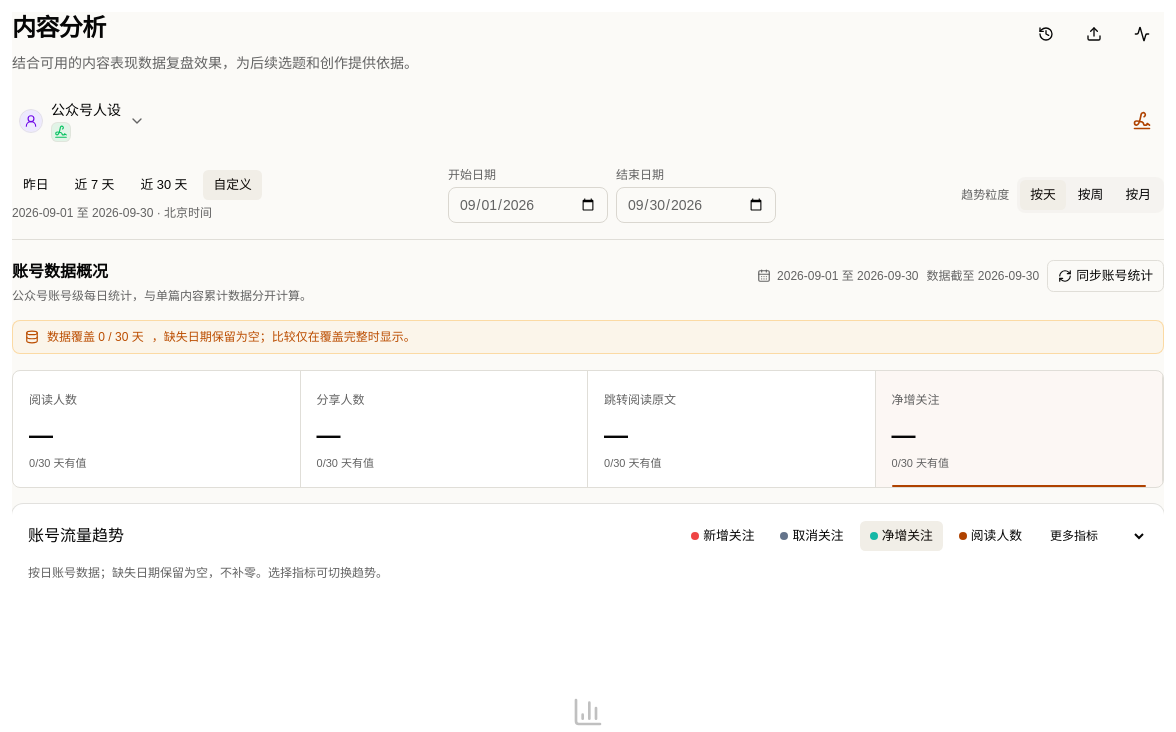
it: server analytics queries › enables official account sync only for an authorized project and refreshes analytics after sync
The image size is (1176, 732).
Click the button "同步账号统计".
click(1106, 276)  # box [1047,260,1164,292]
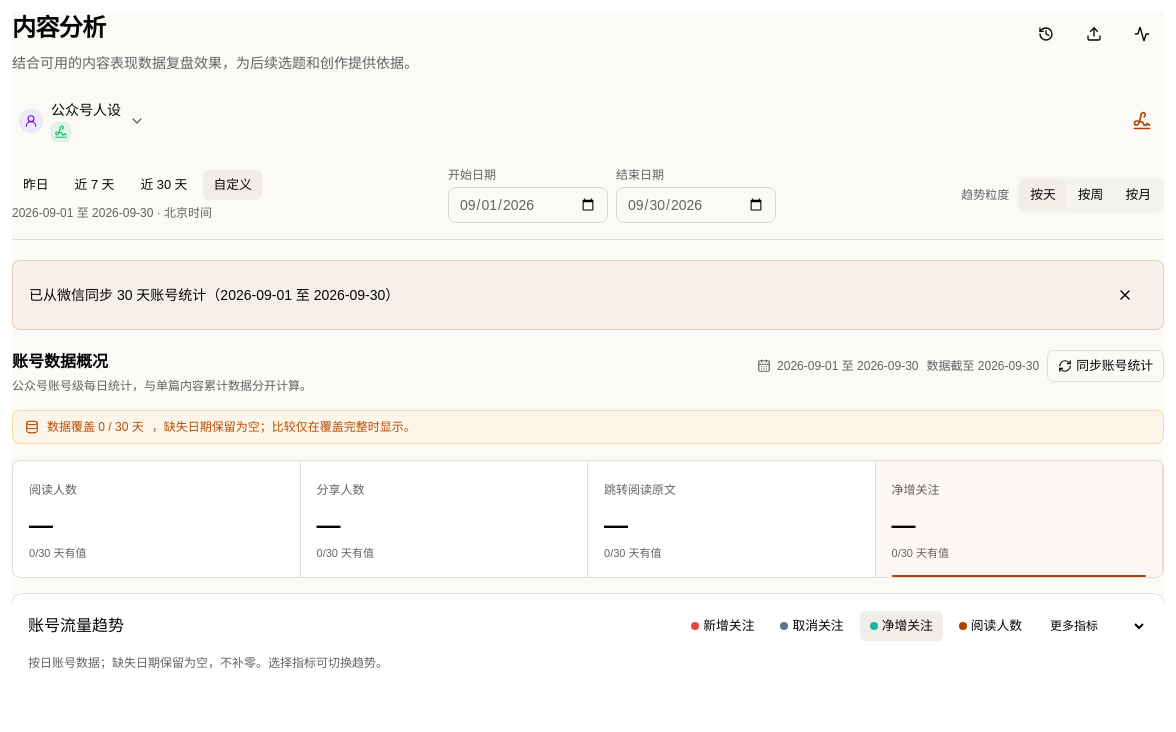
expect the text "已从微信同步 30 天账号统计（2026-09-01 至 2026-09-30）" is shown: met, box [29,285,399,305]
